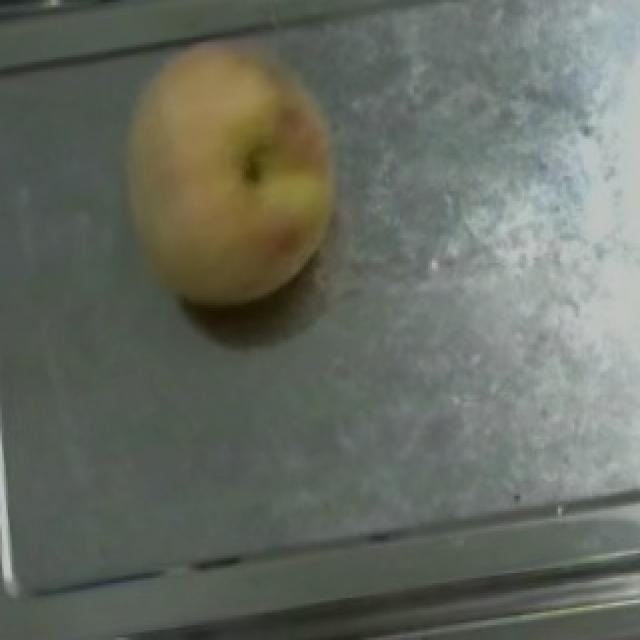Fruit: (86, 8, 380, 338)
